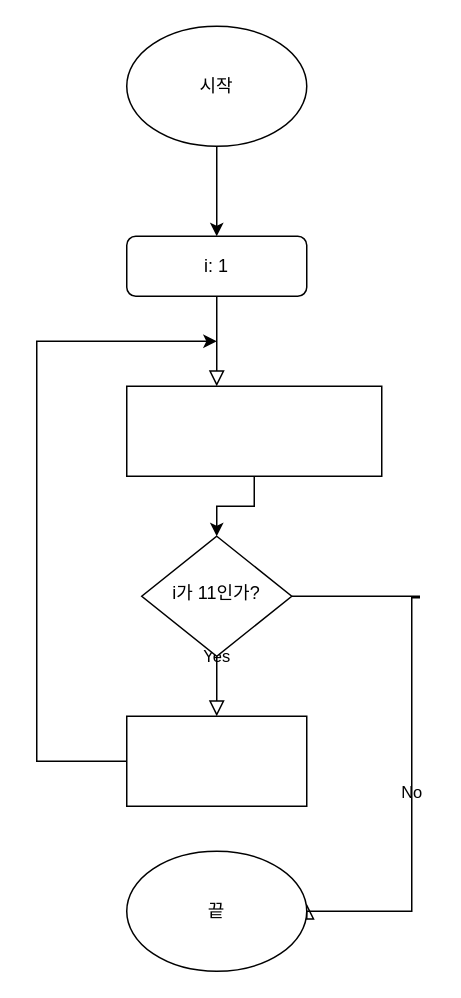
Image size: 461x998. Some labels were removed from this diagram. Each missing label, with the box of its shape:
i 에 1을 더한다: (125, 715, 307, 806)
print( "*" , terminator: "" ): (125, 385, 382, 476)
